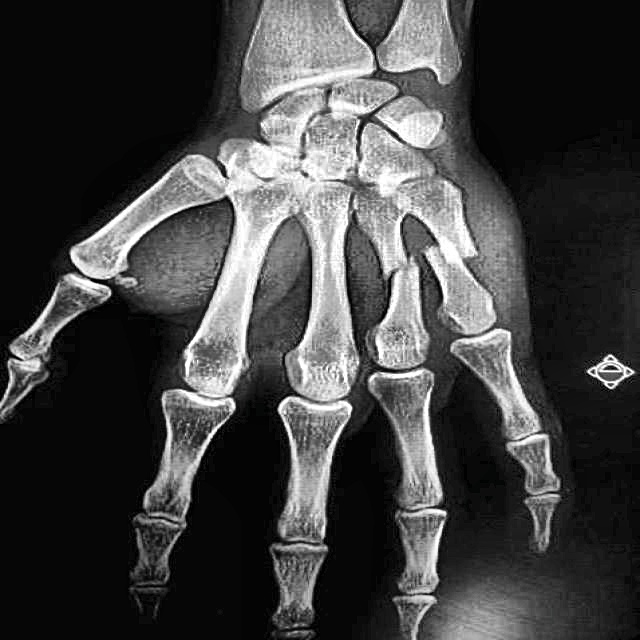Transverse: (419, 212, 502, 280)
Transverse Displaced: (362, 235, 430, 309)
